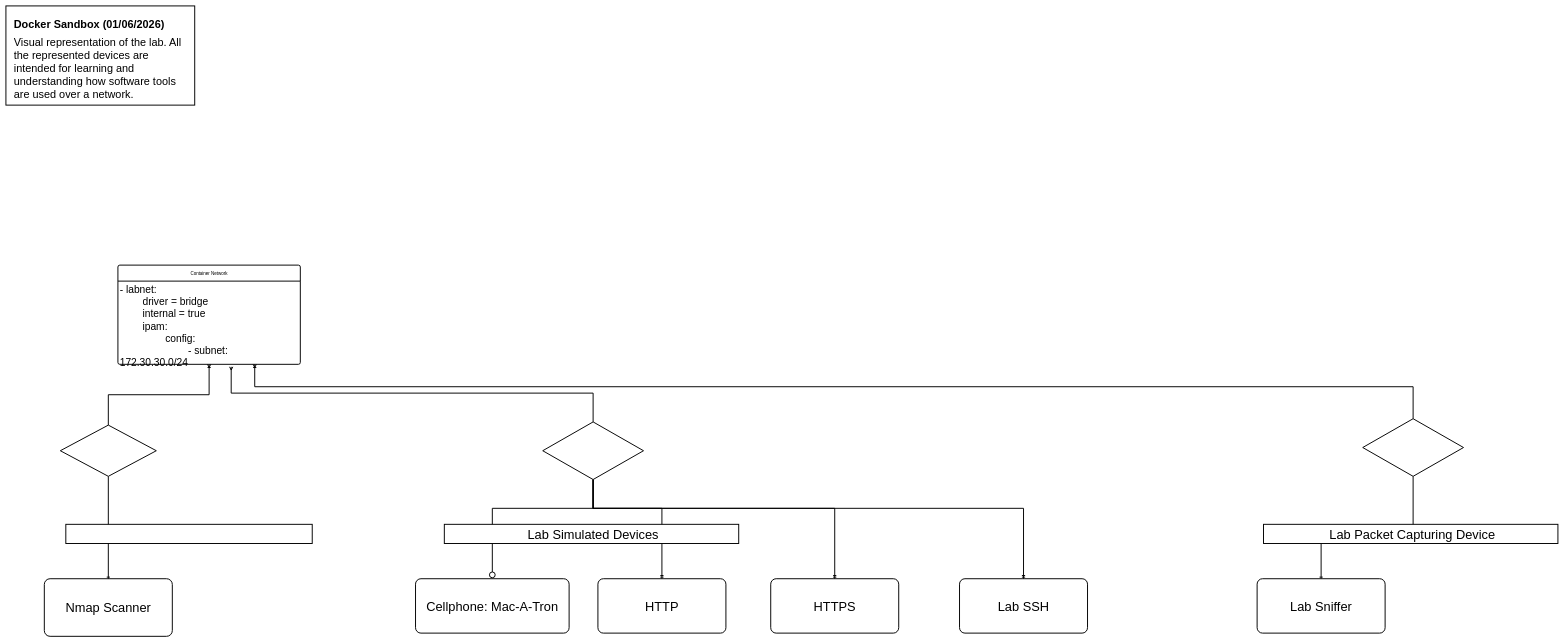
Some shapes in this 1564 by 642 pixel diagram are drawn without their labels. Here are the shapes that lost their labels. From the top down, the centre of each, then its label:
At [108,450]: "Services:".
At [593,450]: "Network Devices".
At [1413,447]: "Network Traffic".
At [189,534]: "Lab Tool Box".
